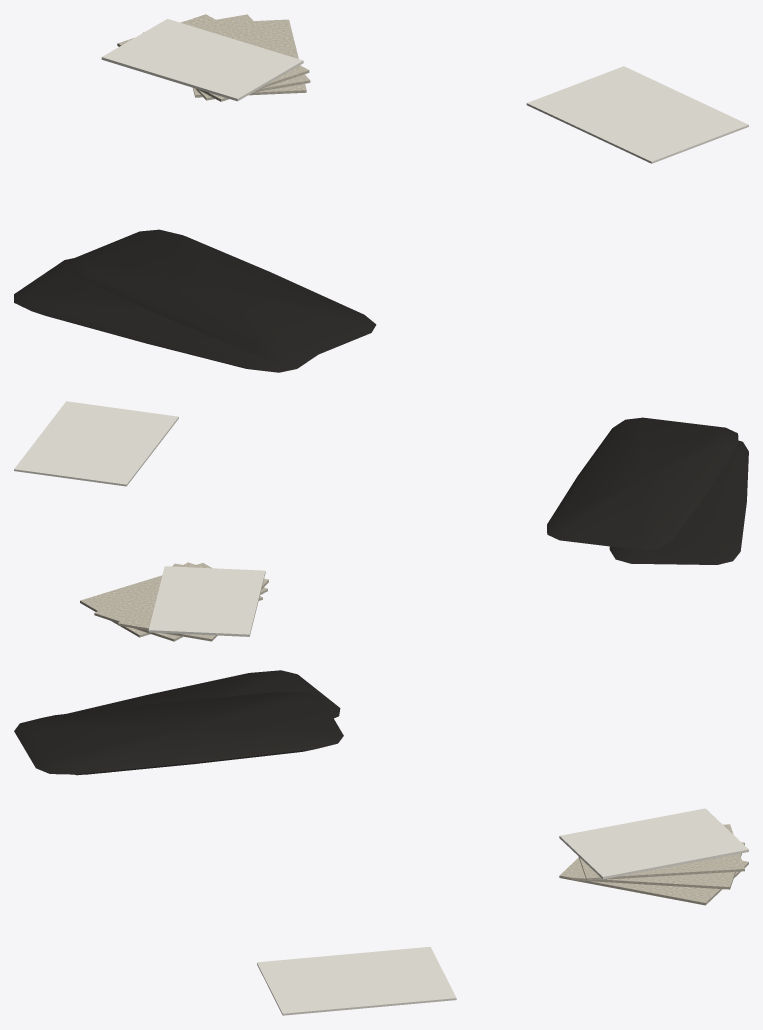
Rendered from room_seance__灵媒的随身物.gltf.
3 views of the same model, one above another, from view 1: azimuth 30°, elevation 25°; view 2: azimuth 150°, elevation 25°; view 3: azimuth 270°, elevation 25° (orthographic). The views are drawn at different scales.
Visible parts, largest first — view 1: 客厅·黑色蕾丝手套 hs_se_gloves, 客厅·降灵卡片 hs_se_cards, 客厅·合影小样（背面朝上） hs_se_photo; view 2: 客厅·黑色蕾丝手套 hs_se_gloves, 客厅·降灵卡片 hs_se_cards, 客厅·合影小样（背面朝上） hs_se_photo; view 3: 客厅·黑色蕾丝手套 hs_se_gloves, 客厅·降灵卡片 hs_se_cards, 客厅·合影小样（背面朝上） hs_se_photo.
Boxes of the visible parts, left/top/right/bottom form: 客厅·黑色蕾丝手套 hs_se_gloves: left=14, top=229, right=376, bottom=372; 客厅·降灵卡片 hs_se_cards: left=101, top=14, right=310, bottom=101; 客厅·合影小样（背面朝上） hs_se_photo: left=526, top=66, right=748, bottom=163; 客厅·黑色蕾丝手套 hs_se_gloves: left=547, top=417, right=748, bottom=564; 客厅·降灵卡片 hs_se_cards: left=80, top=562, right=268, bottom=641; 客厅·合影小样（背面朝上） hs_se_photo: left=14, top=401, right=178, bottom=486; 客厅·黑色蕾丝手套 hs_se_gloves: left=14, top=670, right=343, bottom=775; 客厅·降灵卡片 hs_se_cards: left=559, top=808, right=748, bottom=905; 客厅·合影小样（背面朝上） hs_se_photo: left=257, top=946, right=456, bottom=1015.
Size of the model in its own units: 0.4545 by 0.011 by 0.4135.
3 materials, 1 textured.
